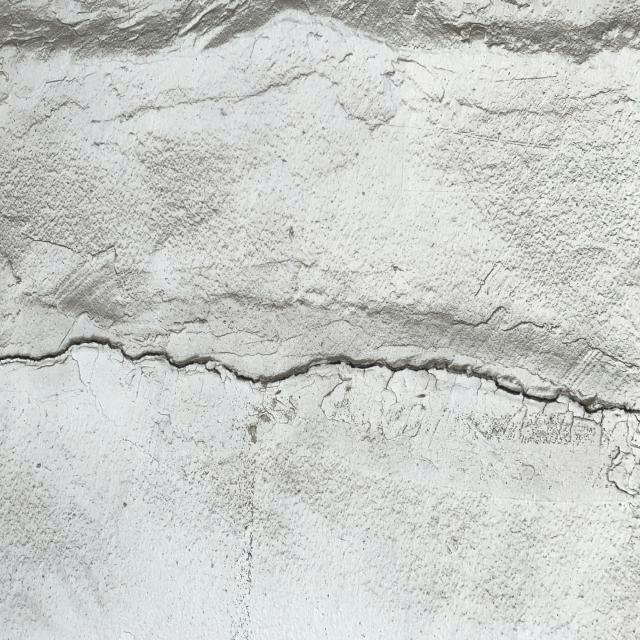SurfaceCrack: (0, 0, 637, 148)
